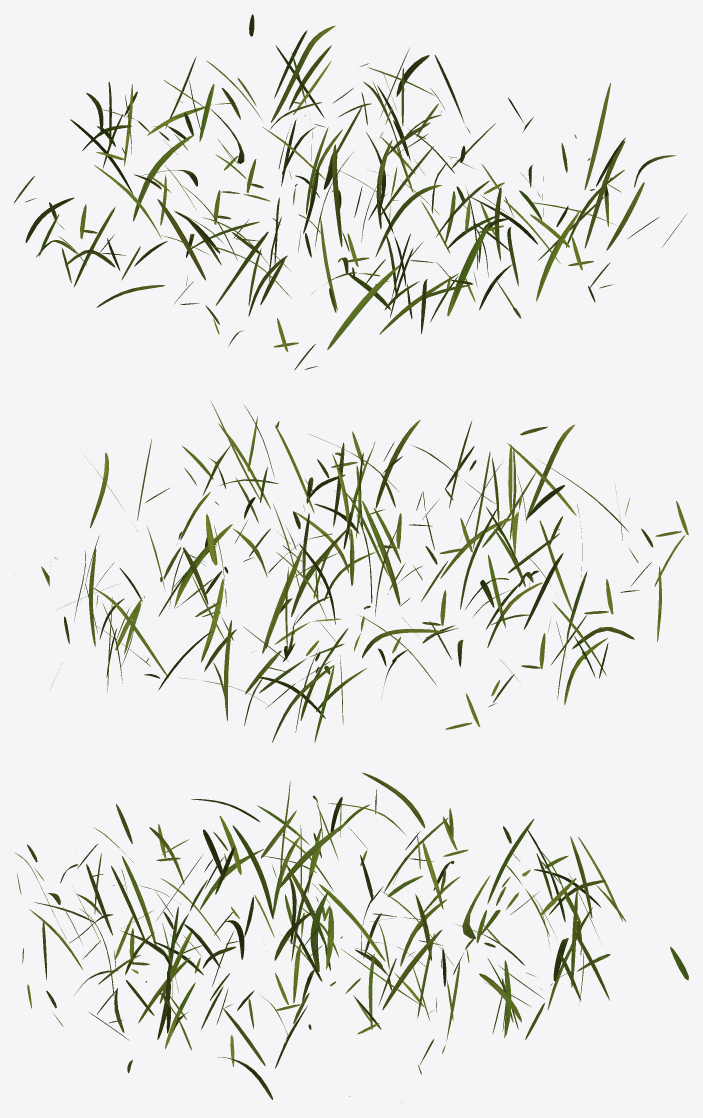
Rendered from Grass_Tiny_01.glb.
3 views of the same model, one above another, from view 1: azimuth 30°, elevation 25°; view 2: azimuth 150°, elevation 25°; view 3: azimuth 270°, elevation 25° (orthographic). The views are drawn at different scales.
Parts seen in each view (by area): view 1: Grass_Tiny_01; view 2: Grass_Tiny_01; view 3: Grass_Tiny_01.
Boxes of the visible parts, box(x1,y1,x2,y2) form: Grass_Tiny_01: box(14, 14, 687, 370); Grass_Tiny_01: box(41, 400, 688, 742); Grass_Tiny_01: box(15, 772, 688, 1102).
Bounding box in the file's own units: 0.4503 × 0.08 × 0.4763.
Materials: 1 (1 with a texture image).
